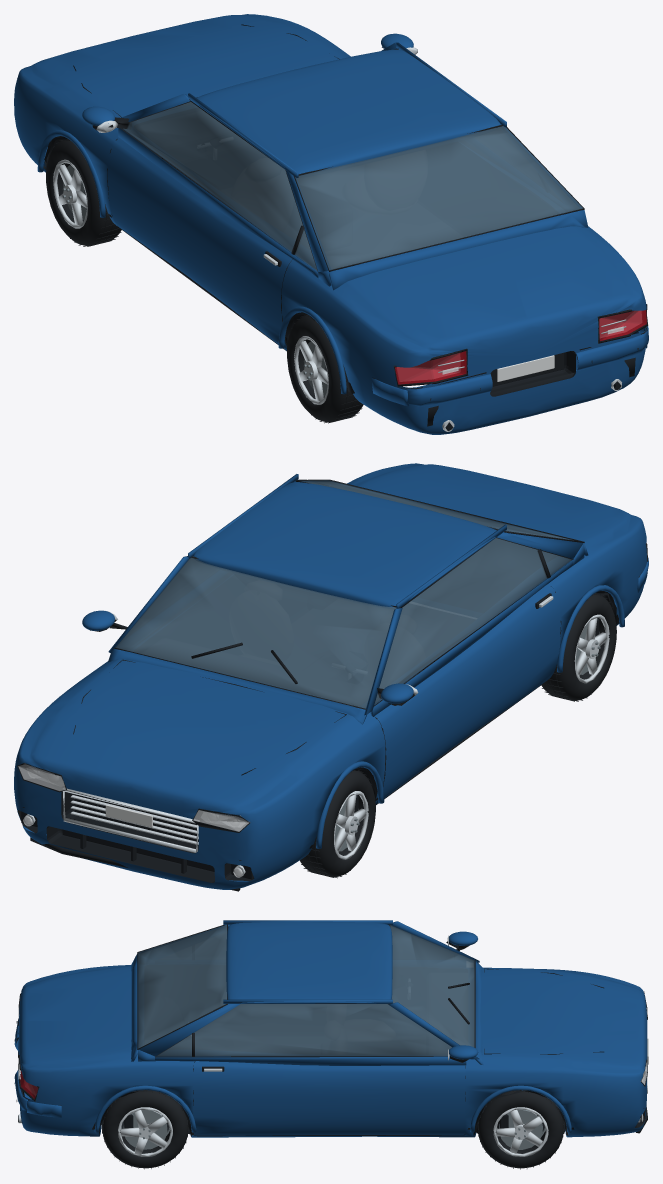
File: car_gt.glb
3 renders of one model, top to bottom at view 1: azimuth 30°, elevation 25°; view 2: azimuth 150°, elevation 25°; view 3: azimuth 270°, elevation 25°, orthographic. The views are drawn at different scales.
Visible parts, largest first — view 1: Original grand_tourer fourteen-section body shell, Aerodynamic mirror painted cap, Raked transparent windscreen, Continuous circumferential tread rib, Aerodynamic mirror lower housing, Cast swept alloy spoke, Flush corner wrapping ruby lamp lens, Front license plate; view 2: Original grand_tourer fourteen-section body shell, Raked transparent windscreen, Aerodynamic mirror painted cap, Aerodynamic mirror lower housing, Continuous circumferential tread rib, Cast swept alloy spoke, Clear reversing lens insert; view 3: Original grand_tourer fourteen-section body shell, Raked transparent windscreen, Aerodynamic mirror painted cap, Continuous circumferential tread rib, Aerodynamic mirror lower housing, Cast swept alloy spoke, Deep wheel barrel inner lip.
Part boxes in pixels (bbox=[...]): Original grand_tourer fourteen-section body shell: bbox=[14, 14, 647, 434]; Aerodynamic mirror painted cap: bbox=[37, 33, 648, 406]; Raked transparent windscreen: bbox=[123, 102, 582, 270]; Continuous circumferential tread rib: bbox=[46, 139, 363, 423]; Aerodynamic mirror lower housing: bbox=[43, 24, 648, 431]; Cast swept alloy spoke: bbox=[53, 47, 641, 431]; Flush corner wrapping ruby lamp lens: bbox=[395, 310, 646, 384]; Front license plate: bbox=[497, 355, 554, 381]; Original grand_tourer fourteen-section body shell: bbox=[14, 463, 646, 889]; Raked transparent windscreen: bbox=[116, 480, 573, 708]; Aerodynamic mirror painted cap: bbox=[82, 474, 648, 848]; Aerodynamic mirror lower housing: bbox=[17, 479, 648, 891]; Continuous circumferential tread rib: bbox=[300, 593, 616, 878]; Cast swept alloy spoke: bbox=[25, 596, 609, 876]; Clear reversing lens insert: bbox=[18, 764, 249, 877]; Original grand_tourer fourteen-section body shell: bbox=[18, 965, 647, 1137]; Raked transparent windscreen: bbox=[138, 925, 474, 1056]; Aerodynamic mirror painted cap: bbox=[14, 920, 571, 1132]; Continuous circumferential tread rib: bbox=[102, 1090, 563, 1169]; Aerodynamic mirror lower housing: bbox=[14, 924, 647, 1136]; Cast swept alloy spoke: bbox=[18, 935, 647, 1156]; Deep wheel barrel inner lip: bbox=[121, 1109, 545, 1149].
Bounding box in the file's own units: 2.14 × 1.29 × 4.65.
